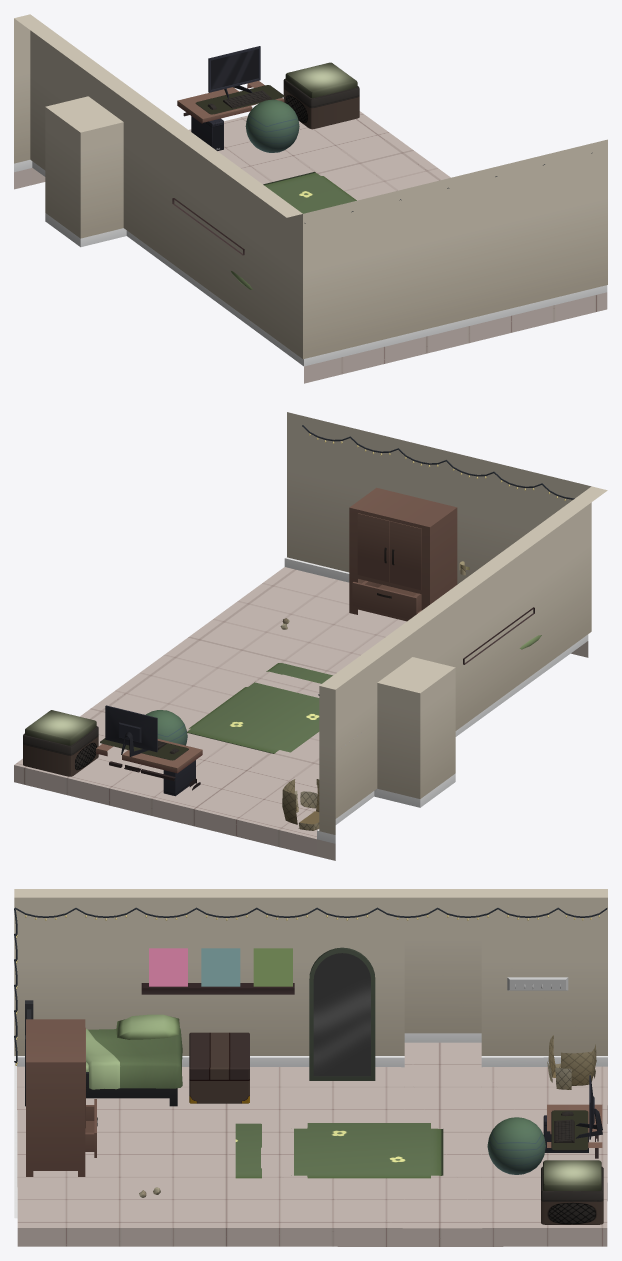
File: Gravel's room.fbx
3 renders of one model, top to bottom at view 1: azimuth 30°, elevation 25°; view 2: azimuth 150°, elevation 25°; view 3: azimuth 270°, elevation 25°, orthographic. The views are drawn at different scales.
Parts seen in each view (by area): view 1: Room, Music box, Cube, Carpet, Tv Screen Stand, Mousenkeyboard, Desk, PcCase; view 2: Room, Dresser, Carpet, Music box, Tv Screen Stand, Desk, clothes Bin, Cube, Wall Lamps, PcCase, Mousenkeyboard; view 3: Room, Dresser, Carpet, Mirror, TwinBed with sheet, Record display, Chest, Music box, Cube, Wall Lamps, clothes Bin, Mousenkeyboard (+3 smaller).
Boxes of the visible parts, x1,y1,x2,y2 form: Room: [14, 14, 607, 383]; Music box: [283, 62, 359, 129]; Cube: [245, 99, 299, 152]; Carpet: [263, 172, 356, 213]; Tv Screen Stand: [208, 46, 260, 98]; Mousenkeyboard: [195, 85, 284, 114]; Desk: [177, 81, 284, 123]; PcCase: [191, 116, 223, 150]; Room: [14, 412, 607, 860]; Dresser: [349, 487, 457, 621]; Carpet: [187, 663, 332, 753]; Music box: [23, 710, 98, 776]; Tv Screen Stand: [105, 705, 157, 756]; Desk: [96, 739, 202, 790]; clothes Bin: [282, 779, 319, 830]; Cube: [145, 710, 187, 745]; Wall Lamps: [302, 425, 574, 695]; PcCase: [163, 760, 195, 796]; Mousenkeyboard: [100, 738, 188, 760]; Room: [14, 889, 607, 1246]; Dresser: [26, 1019, 97, 1176]; Carpet: [235, 1123, 443, 1178]; Mirror: [309, 947, 375, 1080]; TwinBed with sheet: [25, 1000, 182, 1106]; Record display: [141, 948, 294, 994]; Chest: [189, 1032, 249, 1103]; Music box: [541, 1160, 603, 1224]; Cube: [487, 1117, 545, 1174]; Wall Lamps: [14, 907, 607, 1065]; clothes Bin: [547, 1035, 596, 1089]; Mousenkeyboard: [551, 1110, 588, 1150].
Size of the model in its own units: 8.64 by 4.05 by 11.69.
